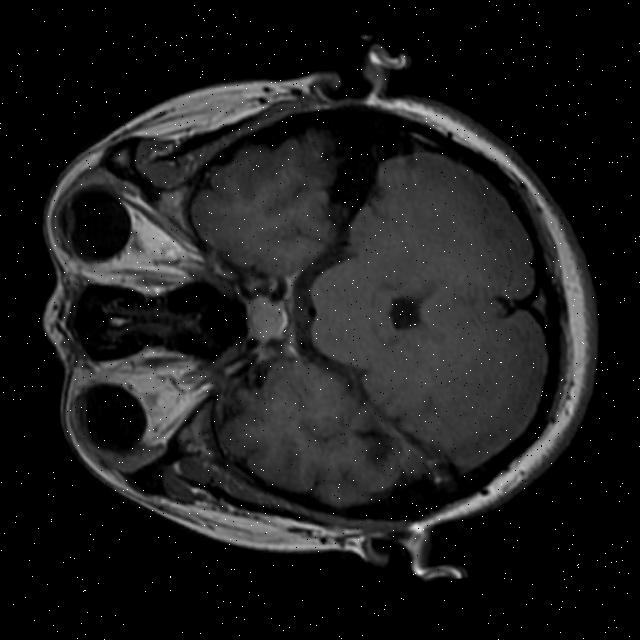Pituitary: (239, 291, 291, 344)
